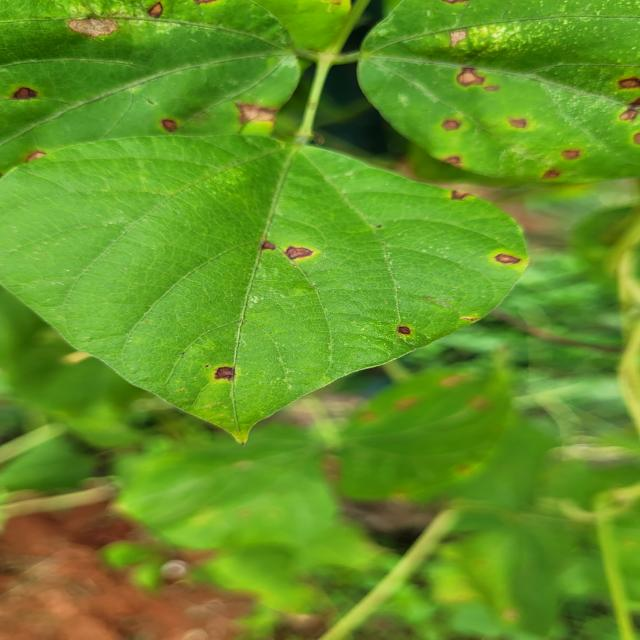Dolicos bean_cercospora leaf spot: (0, 129, 531, 438), (0, 0, 317, 167), (350, 0, 640, 180), (337, 349, 534, 502)
Dolicos bean_healthy: (110, 418, 354, 549)
